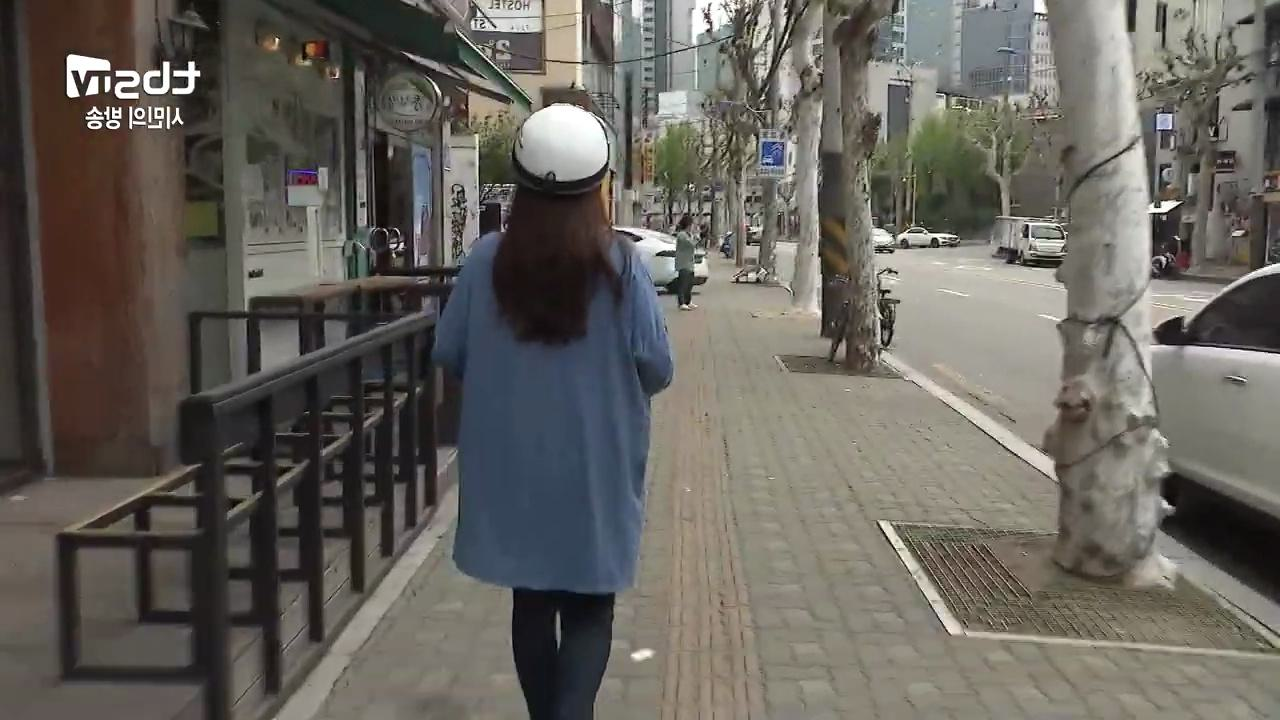helmet: (426, 99, 676, 720)
